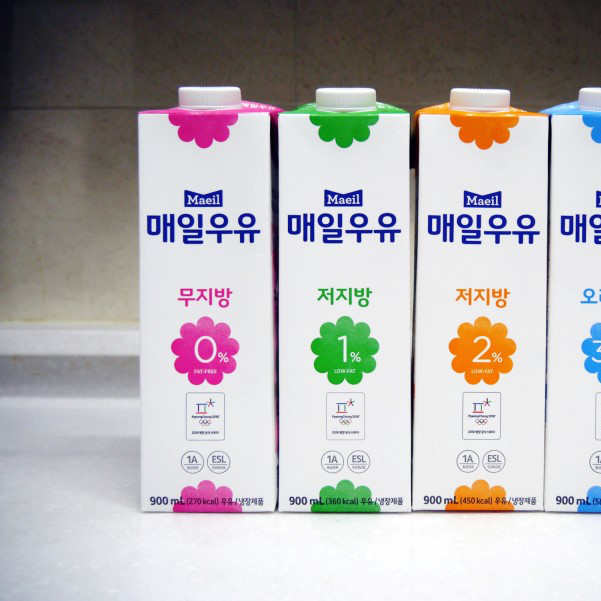milk: (136, 85, 601, 513)
